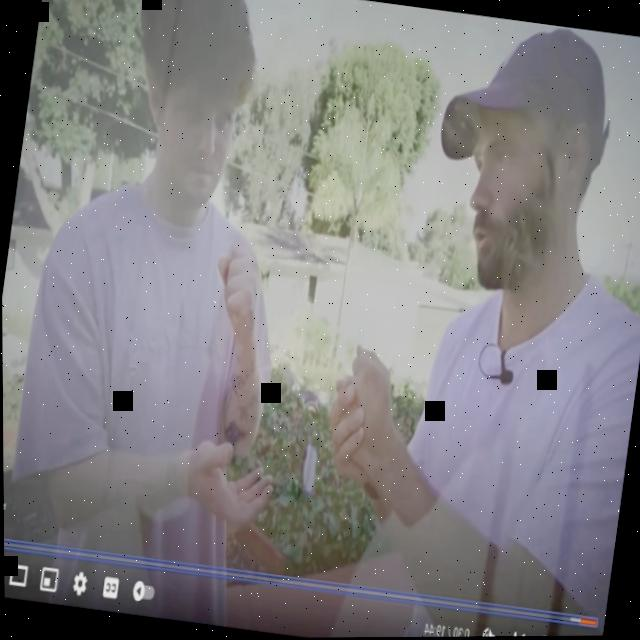Rock: (336, 343, 400, 477), (206, 243, 263, 348)
